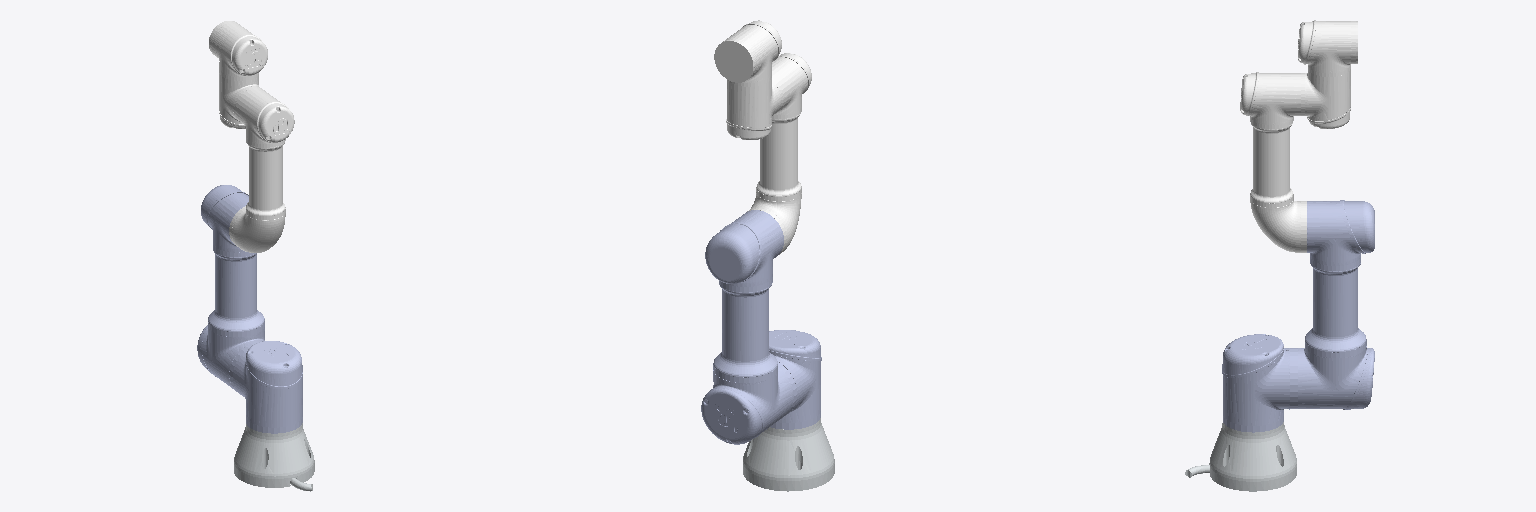
robot.urdf — ur3:
<?xml version="1.0" encoding="utf-8"?>
<!-- This URDF was automatically created by SolidWorks to URDF Exporter! Originally created by [author] ([email redacted]) 
     Commit Version: 1.6.0-4-g7f85cfe  Build Version: 1.6.7995.38578
     For more information, please see http://wiki.ros.org/sw_urdf_exporter -->
<robot
  name="ur3">
  <link
    name="base_link">
    <inertial>
      <origin
        xyz="3.8786E-05 0.04622 0.00080892"
        rpy="0 0 0" />
      <mass
        value="0.61577" />
      <inertia
        ixx="0.00076128"
        ixy="3.5087E-07"
        ixz="-3.0273E-07"
        iyy="0.0010029"
        iyz="3.469E-06"
        izz="0.00077456" />
    </inertial>
    <visual>
      <origin
        xyz="0 0 0"
        rpy="0 0 0" />
      <geometry>
        <mesh
          filename="package://ur3/meshes/base_link.STL" />
      </geometry>
      <material
        name="">
        <color
          rgba="0.89804 0.91765 0.92941 1" />
      </material>
    </visual>
    <collision>
      <origin
        xyz="0 0 0"
        rpy="0 0 0" />
      <geometry>
        <mesh
          filename="package://ur3/meshes/base_link.STL" />
      </geometry>
    </collision>
  </link>
  <link
    name="link1">
    <inertial>
      <origin
        xyz="-6.6109E-06 0.055939 0.0073371"
        rpy="0 0 0" />
      <mass
        value="0.756" />
      <inertia
        ixx="0.001069"
        ixy="-9.4386E-08"
        ixz="1.0327E-07"
        iyy="0.00090659"
        iyz="-0.00013106"
        izz="0.00099021" />
    </inertial>
    <visual>
      <origin
        xyz="0 0 0"
        rpy="0 0 0" />
      <geometry>
        <mesh
          filename="package://ur3/meshes/link1.STL" />
      </geometry>
      <material
        name="">
        <color
          rgba="0.79216 0.81961 0.93333 1" />
      </material>
    </visual>
    <collision>
      <origin
        xyz="0 0 0"
        rpy="0 0 0" />
      <geometry>
        <mesh
          filename="package://ur3/meshes/link1.STL" />
      </geometry>
    </collision>
  </link>
  <joint
    name="joint1"
    type="revolute">
    <origin
      xyz="0 0 0.0844"
      rpy="1.5708 0 -3.1416" />
    <parent
      link="base_link" />
    <child
      link="link1" />
    <axis
      xyz="0 1 0" />
    <limit
      lower="-3.14"
      upper="3.14"
      effort="100"
      velocity="1" />
  </joint>
  <link
    name="link2">
    <inertial>
      <origin
        xyz="-2.4275E-06 0.064246 0.10569"
        rpy="0 0 0" />
      <mass
        value="1.802" />
      <inertia
        ixx="0.0026498"
        ixy="-9.0231E-08"
        ixz="1.0346E-07"
        iyy="0.0025175"
        iyz="-8.1097E-05"
        izz="0.0016701" />
    </inertial>
    <visual>
      <origin
        xyz="0 0 0"
        rpy="0 0 0" />
      <geometry>
        <mesh
          filename="package://ur3/meshes/link2.STL" />
      </geometry>
      <material
        name="">
        <color
          rgba="0.79216 0.81961 0.93333 1" />
      </material>
    </visual>
    <collision>
      <origin
        xyz="0 0 0"
        rpy="0 0 0" />
      <geometry>
        <mesh
          filename="package://ur3/meshes/link2.STL" />
      </geometry>
    </collision>
  </link>
  <joint
    name="joint2"
    type="revolute">
    <origin
      xyz="0 0.0675 0.05235"
      rpy="1.5708 0 -3.1416" />
    <parent
      link="link1" />
    <child
      link="link2" />
    <axis
      xyz="0 -1 0" />
    <limit
      lower="-3.14"
      upper="3.14"
      effort="100"
      velocity="1" />
  </joint>
  <link
    name="link3">
    <inertial>
      <origin
        xyz="-0.0051485 -0.11117 -5.3349E-07"
        rpy="0 0 0" />
      <mass
        value="0.9624" />
      <inertia
        ixx="0.001015"
        ixy="4.6188E-05"
        ixz="1.0584E-08"
        iyy="0.00054278"
        iyz="-9.3595E-09"
        izz="0.0010729" />
    </inertial>
    <visual>
      <origin
        xyz="0 0 0"
        rpy="0 0 0" />
      <geometry>
        <mesh
          filename="package://ur3/meshes/link3.STL" />
      </geometry>
      <material
        name="">
        <color
          rgba="1 1 1 1" />
      </material>
    </visual>
    <collision>
      <origin
        xyz="0 0 0"
        rpy="0 0 0" />
      <geometry>
        <mesh
          filename="package://ur3/meshes/link3.STL" />
      </geometry>
    </collision>
  </link>
  <joint
    name="joint3"
    type="revolute">
    <origin
      xyz="0 -0.02535 0.24365"
      rpy="-1.5708 0 -1.5708" />
    <parent
      link="link2" />
    <child
      link="link3" />
    <axis
      xyz="1 0 0" />
    <limit
      lower="-3.14"
      upper="3.14"
      effort="100"
      velocity="1" />
  </joint>
  <link
    name="link4">
    <inertial>
      <origin
        xyz="0.0059208 -0.00051754 1.4538E-07"
        rpy="0 0 0" />
      <mass
        value="0.3252" />
      <inertia
        ixx="0.00019459"
        ixy="1.8339E-05"
        ixz="6.3684E-10"
        iyy="0.00019909"
        iyz="5.1705E-10"
        izz="0.00022621" />
    </inertial>
    <visual>
      <origin
        xyz="0 0 0"
        rpy="0 0 0" />
      <geometry>
        <mesh
          filename="package://ur3/meshes/link4.STL" />
      </geometry>
      <material
        name="">
        <color
          rgba="1 1 1 1" />
      </material>
    </visual>
    <collision>
      <origin
        xyz="0 0 0"
        rpy="0 0 0" />
      <geometry>
        <mesh
          filename="package://ur3/meshes/link4.STL" />
      </geometry>
    </collision>
  </link>
  <joint
    name="joint4"
    type="revolute">
    <origin
      xyz="-0.0834 -0.213 0"
      rpy="-3.1416 0 0" />
    <parent
      link="link3" />
    <child
      link="link4" />
    <axis
      xyz="1 0 0" />
    <limit
      lower="-3.14"
      upper="3.14"
      effort="100"
      velocity="1" />
  </joint>
  <link
    name="link5">
    <inertial>
      <origin
        xyz="0.0059208 0.00051754 -1.6526E-07"
        rpy="0 0 0" />
      <mass
        value="0.3252" />
      <inertia
        ixx="0.00019459"
        ixy="-1.834E-05"
        ixz="-6.5236E-10"
        iyy="0.00019909"
        iyz="5.3475E-10"
        izz="0.00022621" />
    </inertial>
    <visual>
      <origin
        xyz="0 0 0"
        rpy="0 0 0" />
      <geometry>
        <mesh
          filename="package://ur3/meshes/link5.STL" />
      </geometry>
      <material
        name="">
        <color
          rgba="1 1 1 1" />
      </material>
    </visual>
    <collision>
      <origin
        xyz="0 0 0"
        rpy="0 0 0" />
      <geometry>
        <mesh
          filename="package://ur3/meshes/link5.STL" />
      </geometry>
    </collision>
  </link>
  <joint
    name="joint5"
    type="revolute">
    <origin
      xyz="0 0.0834 0"
      rpy="0 0 -1.5708" />
    <parent
      link="link4" />
    <child
      link="link5" />
    <axis
      xyz="-1 0 0" />
    <limit
      lower="-3.14"
      upper="3.14"
      effort="100"
      velocity="0" />
  </joint>
  <link
    name="link6">
    <inertial>
      <origin
        xyz="-1.0101E-10 0.0001033 -0.021073"
        rpy="0 0 0" />
      <mass
        value="0.11536" />
      <inertia
        ixx="4.2472E-05"
        ixy="-5.8594E-13"
        ixz="1.0897E-12"
        iyy="4.2687E-05"
        iyz="1.0322E-07"
        izz="5.9069E-05" />
    </inertial>
    <visual>
      <origin
        xyz="0 0 0"
        rpy="0 0 0" />
      <geometry>
        <mesh
          filename="package://ur3/meshes/link6.STL" />
      </geometry>
      <material
        name="">
        <color
          rgba="1 1 1 1" />
      </material>
    </visual>
    <collision>
      <origin
        xyz="0 0 0"
        rpy="0 0 0" />
      <geometry>
        <mesh
          filename="package://ur3/meshes/link6.STL" />
      </geometry>
    </collision>
  </link>
  <joint
    name="joint6"
    type="revolute">
    <origin
      xyz="0 -0.0409 0"
      rpy="1.5708 -1.5708 0" />
    <parent
      link="link5" />
    <child
      link="link6" />
    <axis
      xyz="0 0 1" />
    <limit
      lower="-3.14"
      upper="3.14"
      effort="100"
      velocity="1" />
  </joint>
</robot>

--- What the picture shows (computed from the rendered views, not written in the file) ---
Views: 3 orthographic renders of the robot side by side, from view 1: azimuth 30°, elevation 25°; view 2: azimuth 150°, elevation 25°; view 3: azimuth 270°, elevation 25°.
Model ur3 with 7 links and 6 joints (6 revolute), rooted at base_link, posed every joint at zero.
Visible links, largest first — view 1: link2, link3, link1, base_link, link5, link4; view 2: link2, link3, base_link, link1, link5, link4; view 3: link2, link3, link1, base_link, link5, link4.
Link boxes in pixels (x1=…): link2: x1=197, y1=185, x2=264, y2=391; link3: x1=229, y1=88, x2=294, y2=252; link1: x1=233, y1=341, x2=302, y2=433; base_link: x1=234, y1=423, x2=314, y2=491; link5: x1=209, y1=21, x2=267, y2=80; link4: x1=219, y1=73, x2=261, y2=128; link2: x1=701, y1=210, x2=796, y2=444; link3: x1=747, y1=53, x2=811, y2=254; base_link: x1=743, y1=418, x2=834, y2=491; link1: x1=769, y1=330, x2=821, y2=429; link5: x1=714, y1=20, x2=781, y2=86; link4: x1=726, y1=78, x2=782, y2=139; link2: x1=1290, y1=200, x2=1374, y2=409; link3: x1=1240, y1=72, x2=1306, y2=252; link1: x1=1222, y1=334, x2=1289, y2=432; base_link: x1=1185, y1=422, x2=1296, y2=491; link5: x1=1298, y1=20, x2=1357, y2=76; link4: x1=1301, y1=69, x2=1350, y2=128.
Size in the robot's own frame: 0.128 by 0.2765 by 0.725 metres.
Meshes: 7 distinct files referenced, 7 mesh visuals loaded (7 binary STL).